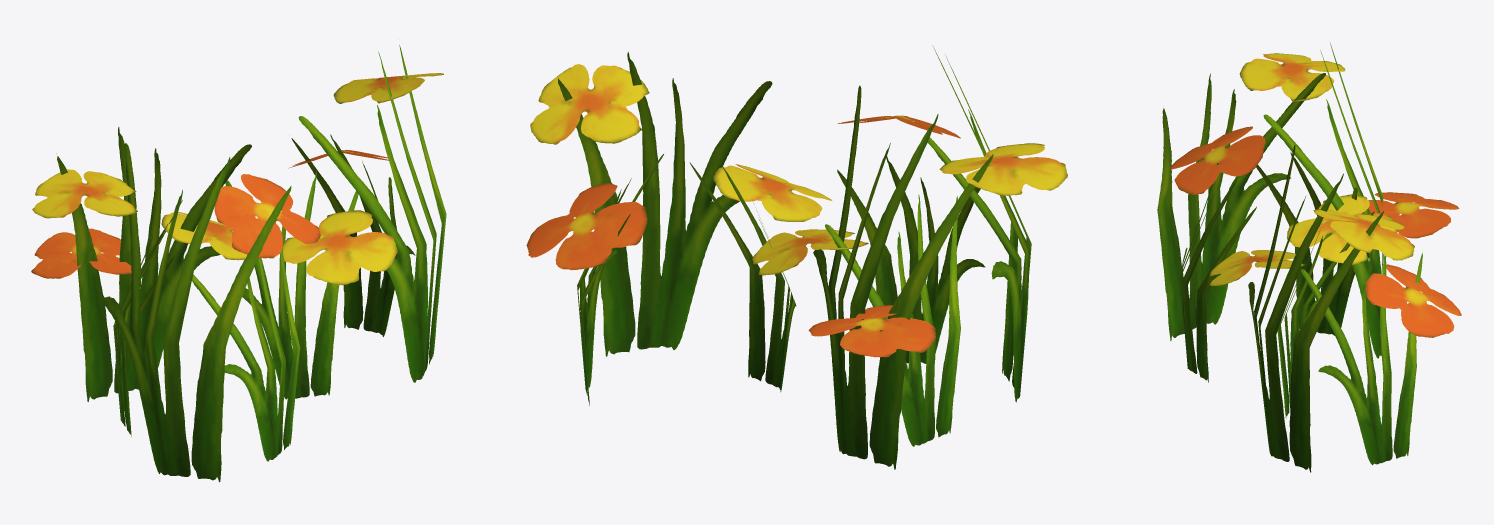
File: sm_flower_01.FBX
3 renders of one model, left to right at view 1: azimuth 30°, elevation 25°; view 2: azimuth 150°, elevation 25°; view 3: azimuth 270°, elevation 25°, orthographic. The views are drawn at different scales.
Parts seen in each view (by area): view 1: sm_flower_01; view 2: sm_flower_01; view 3: sm_flower_01.
Boxes of the visible parts, x1,y1,x2,y2 form: sm_flower_01: (31, 45, 446, 482); sm_flower_01: (526, 45, 1067, 469); sm_flower_01: (1157, 43, 1461, 472).
Bounding box in the file's own units: 152 × 103 × 98.4.
